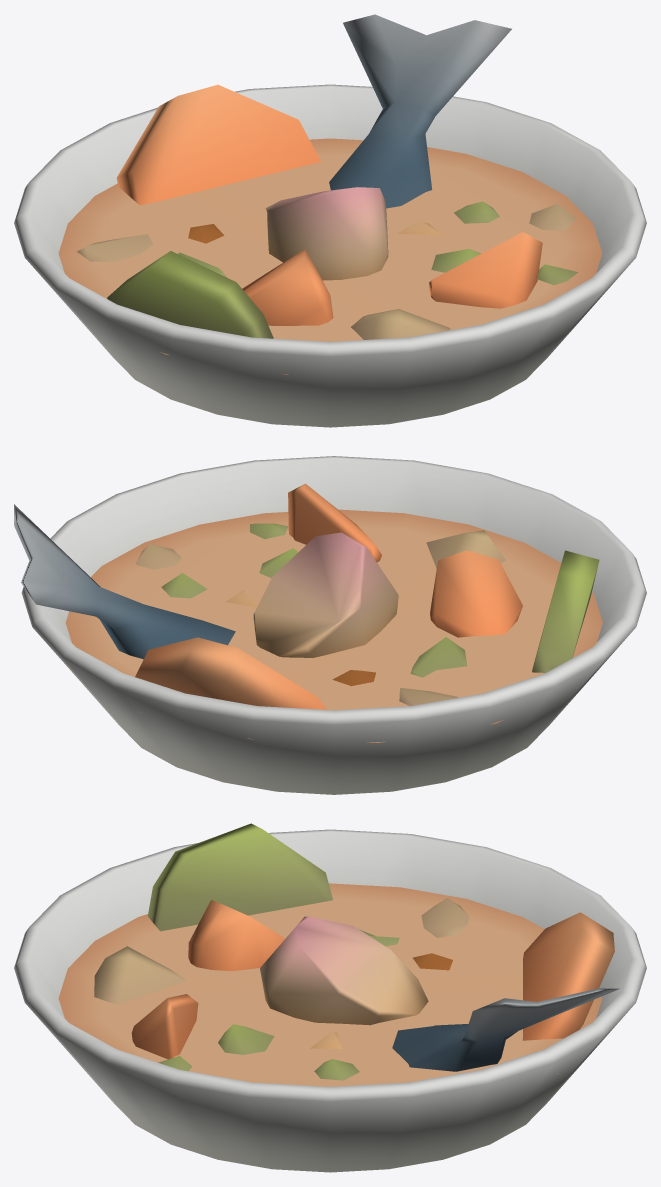
The model's file is hearty_leftovers.glb.
The picture shows the model from 3 angles, top to bottom: view 1: azimuth 30°, elevation 25°; view 2: azimuth 150°, elevation 25°; view 3: azimuth 270°, elevation 25°; orthographic projection.
Visible parts, largest first — view 1: SM_Food_Soup_02, SM_Dish_B.001; view 2: SM_Food_Soup_02, SM_Dish_B.001; view 3: SM_Food_Soup_02, SM_Dish_B.001.
Boxes of the visible parts, x1,y1,x2,y2 form: SM_Food_Soup_02: (58,14,602,374); SM_Dish_B.001: (14,84,646,427); SM_Food_Soup_02: (14,483,602,742); SM_Dish_B.001: (21,456,646,794); SM_Food_Soup_02: (58,823,619,1086); SM_Dish_B.001: (14,829,646,1172).
Bounding box in the file's own units: 0.6574 × 0.2199 × 0.6574.
1 material, 1 textured.
